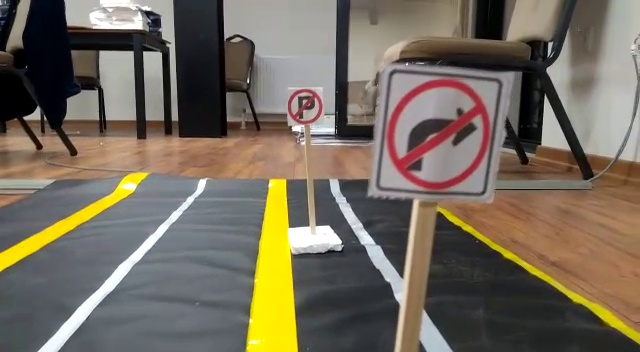park_yapilmaz: (285, 87, 324, 123)
saga_donulmez: (390, 70, 487, 197)
